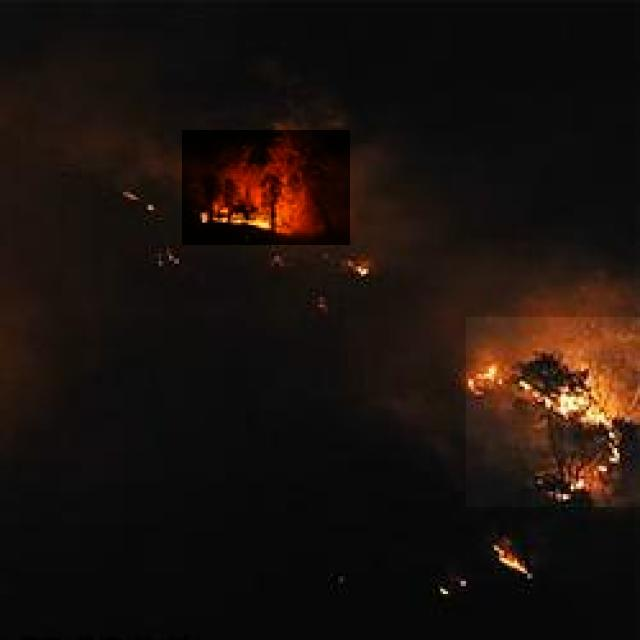Fire: (466, 317, 640, 507), (182, 130, 350, 245)
